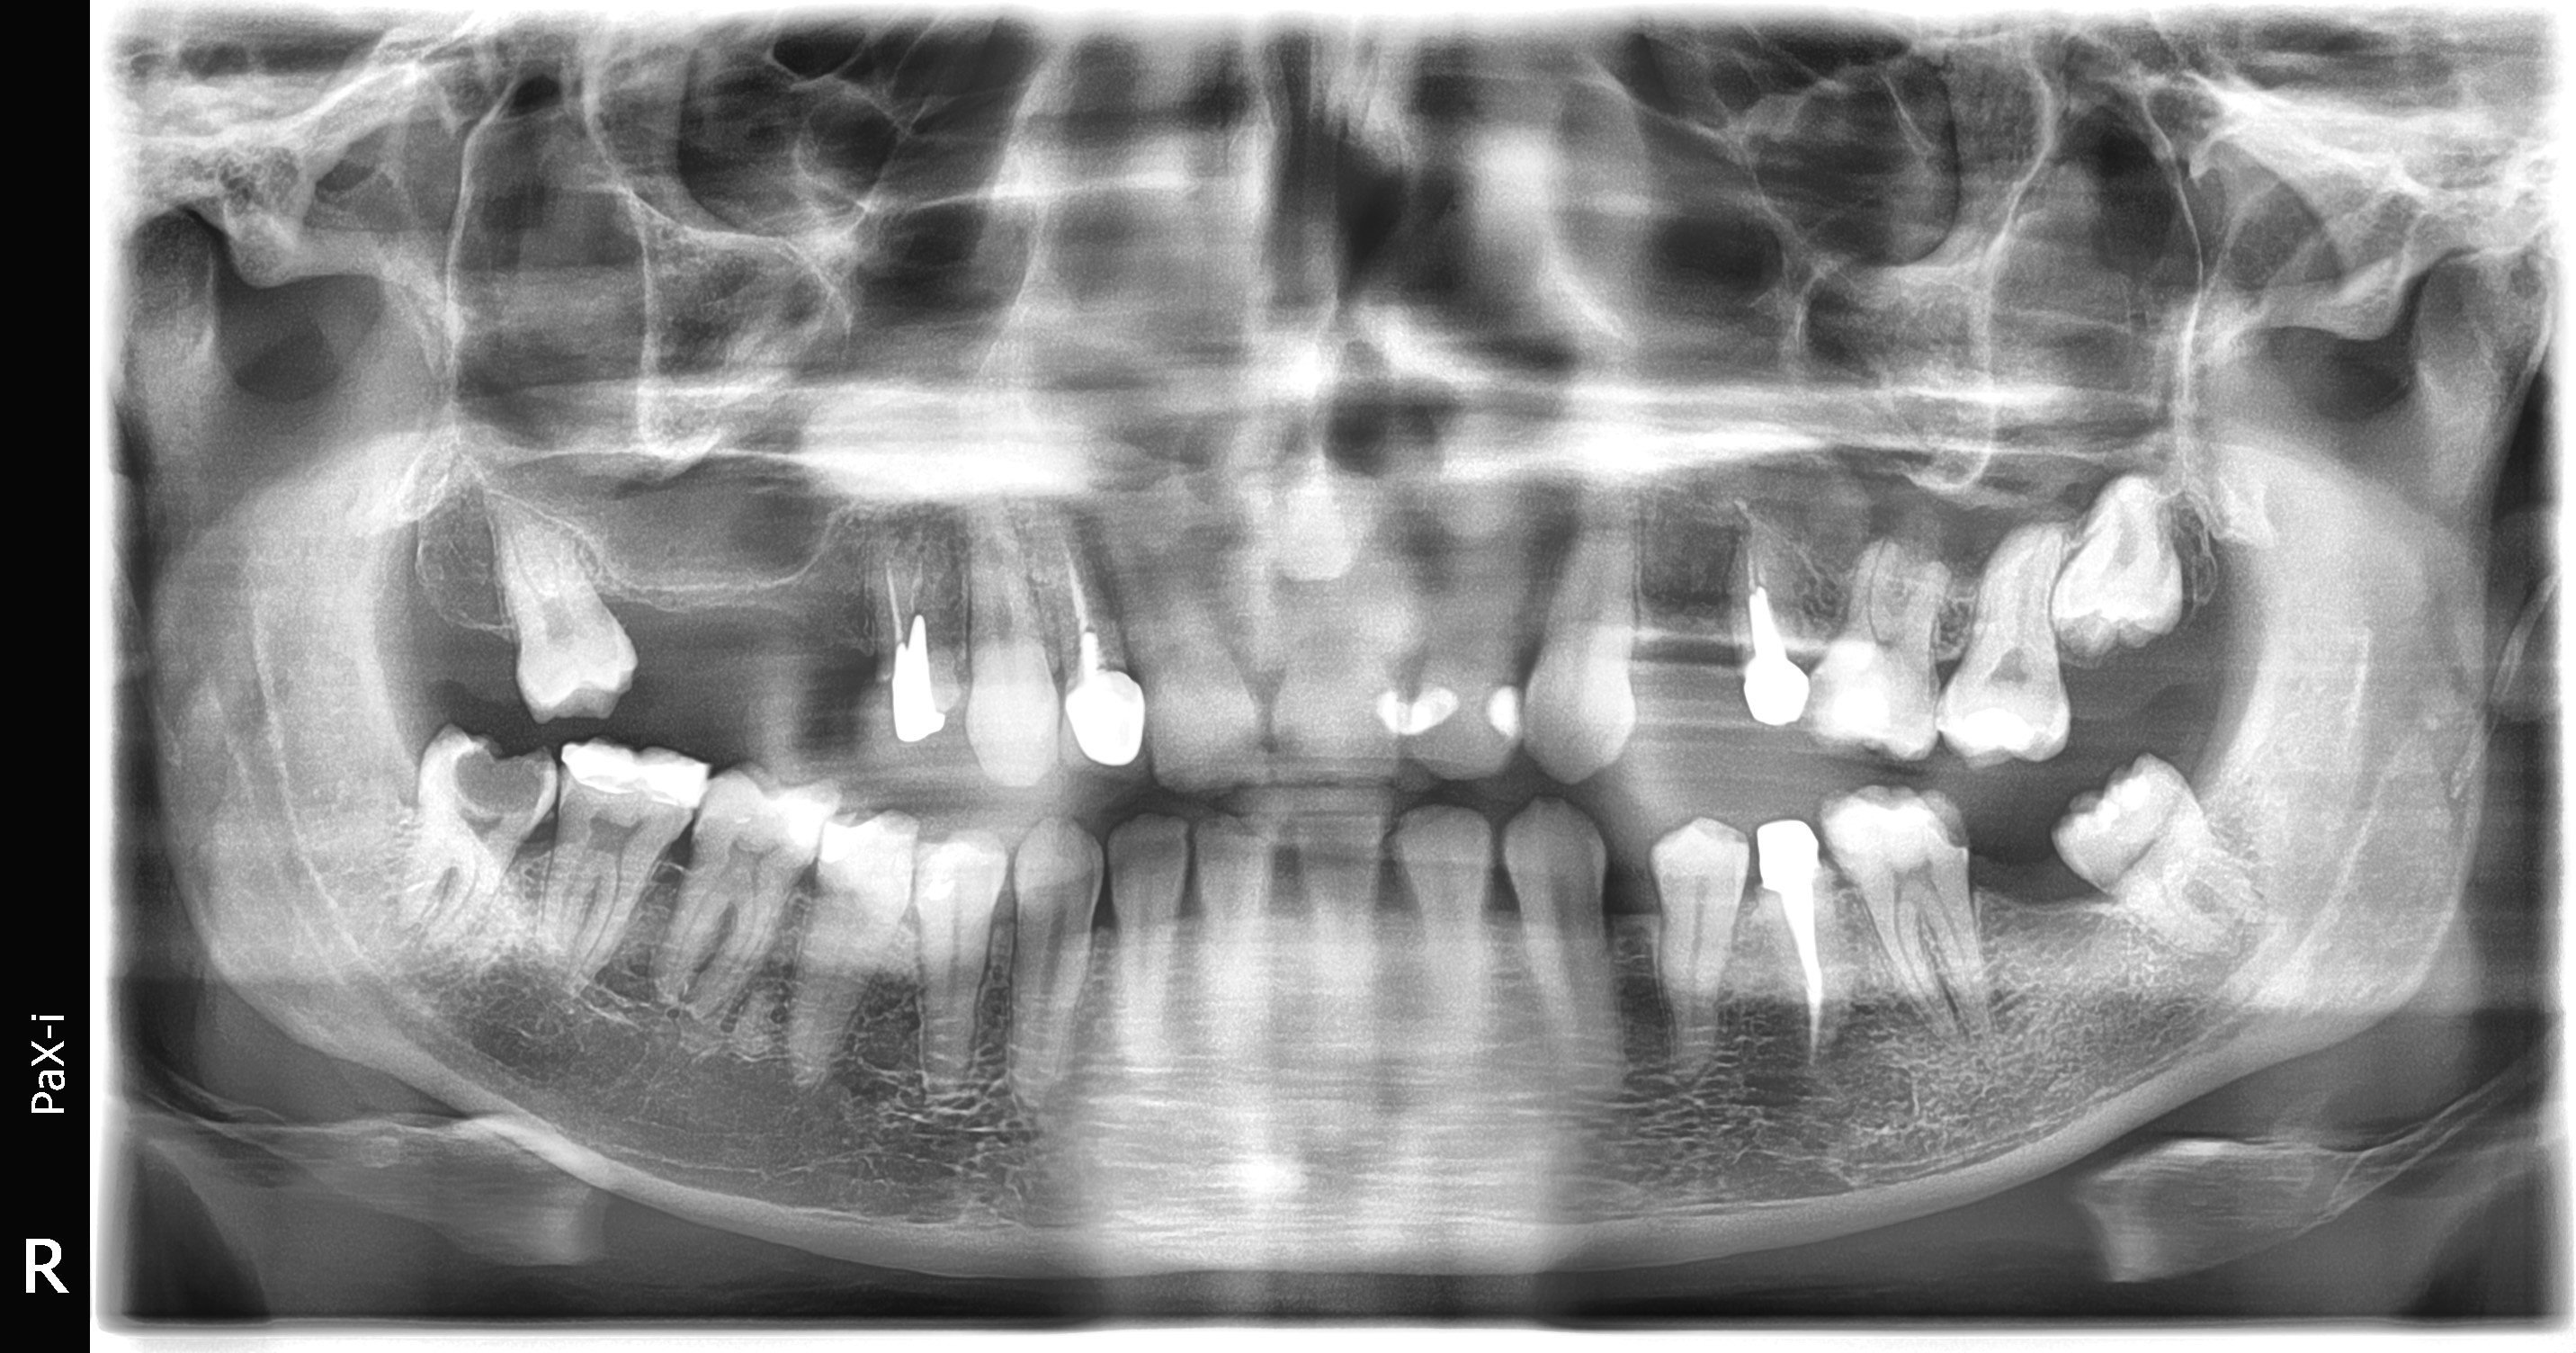CAR: (433, 733, 564, 837), (1891, 784, 1987, 871), (1261, 699, 1336, 799)
END: (860, 515, 957, 671), (1767, 886, 1838, 1082), (1044, 508, 1114, 675), (1733, 518, 1784, 644)
IMT: (2039, 472, 2205, 671)
OBT: (550, 734, 726, 826), (1944, 682, 2055, 774), (1394, 642, 1489, 741), (1322, 673, 1419, 750), (1470, 666, 1532, 774)
PRR: (1046, 630, 1152, 782), (871, 612, 963, 758), (1745, 816, 1852, 920), (1736, 620, 1820, 740)
